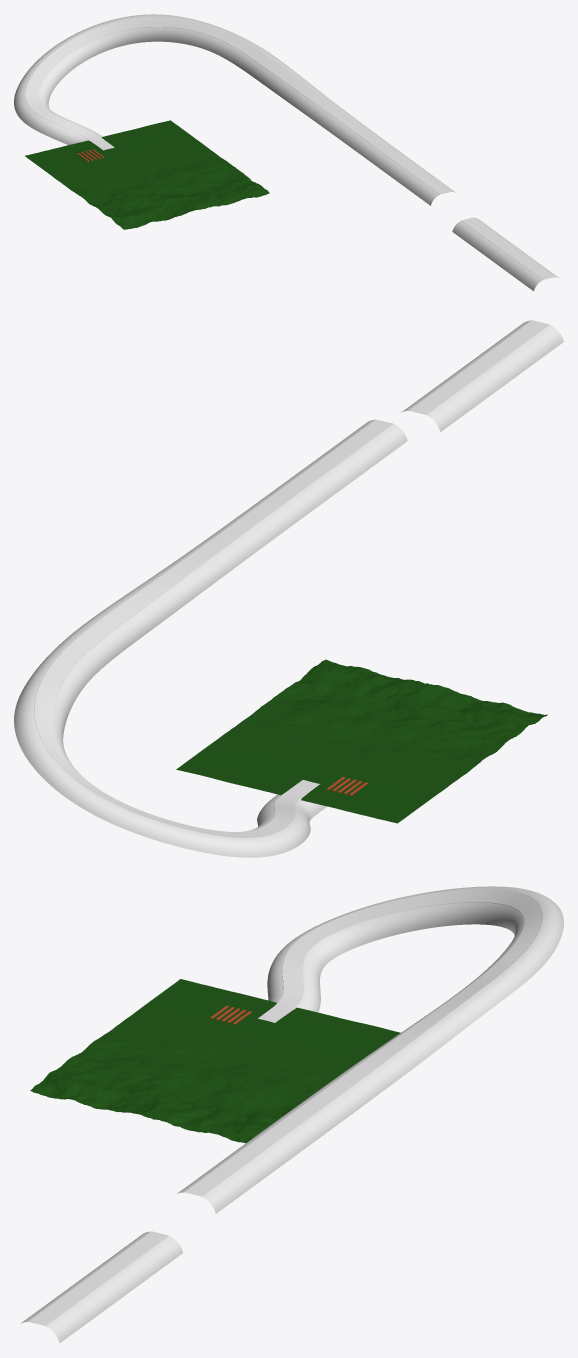
File: Ground.glb
3 renders of one model, top to bottom at view 1: azimuth 30°, elevation 25°; view 2: azimuth 150°, elevation 25°; view 3: azimuth 330°, elevation 25°, orthographic. The views are drawn at different scales.
Parts seen in each view (by area): view 1: NurbsPath.001, Ground; view 2: NurbsPath.001, Ground; view 3: NurbsPath.001, Ground.
Part boxes in pixels (bbox=[...]): NurbsPath.001: bbox=[14, 14, 559, 291]; Ground: bbox=[25, 120, 269, 229]; NurbsPath.001: bbox=[14, 320, 563, 857]; Ground: bbox=[176, 659, 547, 823]; NurbsPath.001: bbox=[20, 886, 563, 1342]; Ground: bbox=[30, 979, 400, 1143].
Size of the model in its own units: 79.17 by 23.59 by 229.
